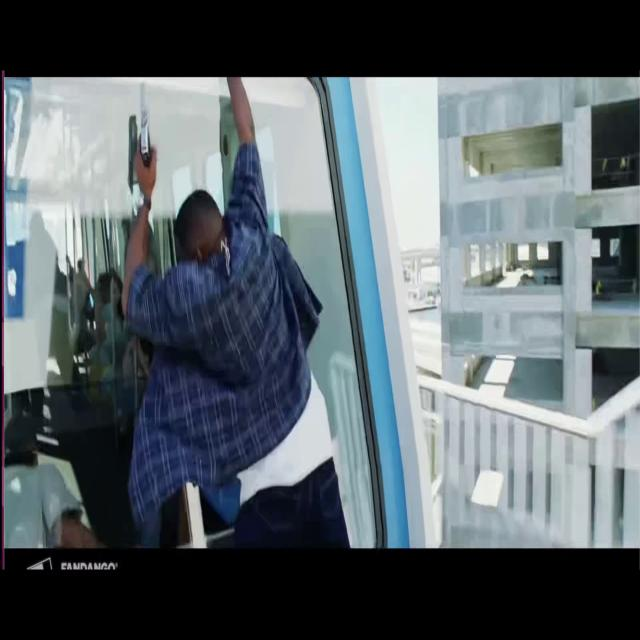weapons: (128, 80, 167, 199)
